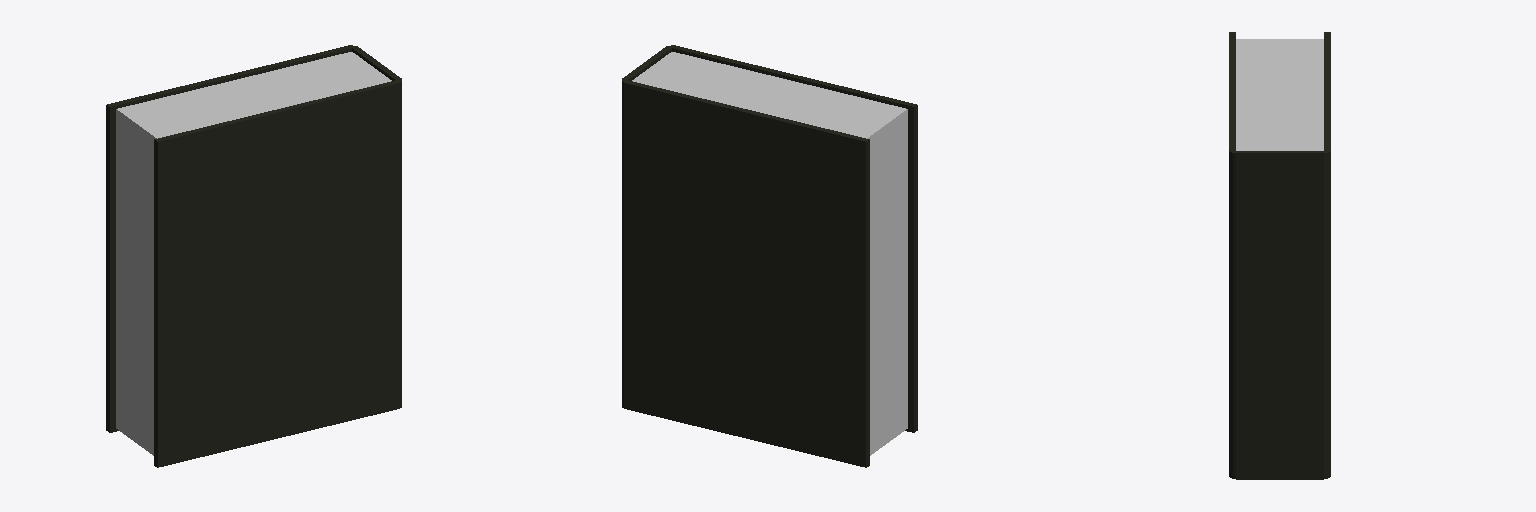
3 renders of one model, left to right at view 1: azimuth 30°, elevation 25°; view 2: azimuth 150°, elevation 25°; view 3: azimuth 270°, elevation 25°, orthographic.
Parts seen in each view (by area): view 1: Cube, Cube.001; view 2: Cube, Cube.001; view 3: Cube, Cube.001.
Part boxes in pixels (left/top/right/bottom): Cube: left=106, top=45, right=401, bottom=467; Cube.001: left=116, top=52, right=391, bottom=455; Cube: left=622, top=45, right=917, bottom=467; Cube.001: left=632, top=52, right=907, bottom=455; Cube: left=1229, top=32, right=1330, bottom=479; Cube.001: left=1236, top=39, right=1323, bottom=150.
Size of the model in its own units: 1.1 by 1.39 by 0.3935.
2 materials, 1 textured.